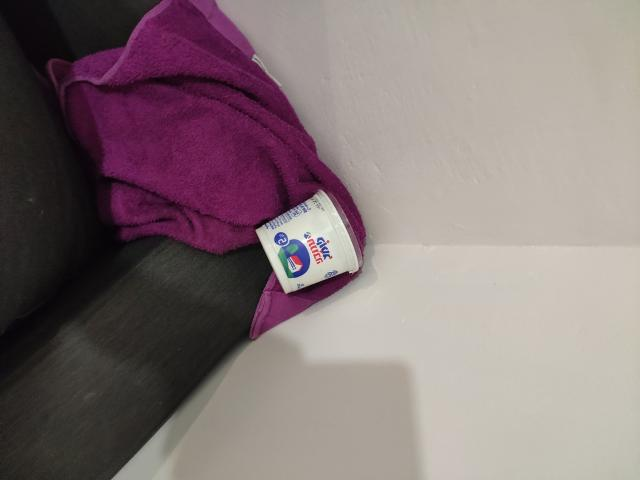cotage: (260, 192, 366, 288)
